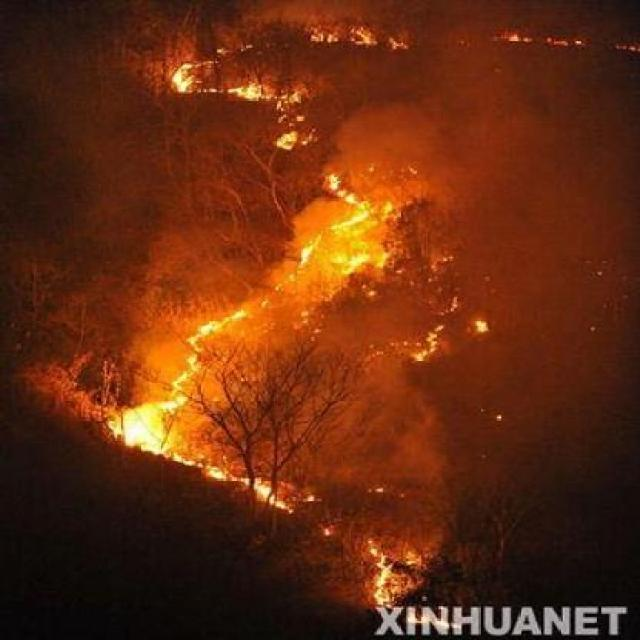Fire: (104, 287, 300, 527), (310, 12, 640, 64), (298, 164, 391, 278), (156, 34, 294, 106), (360, 533, 438, 633), (420, 293, 492, 368)
